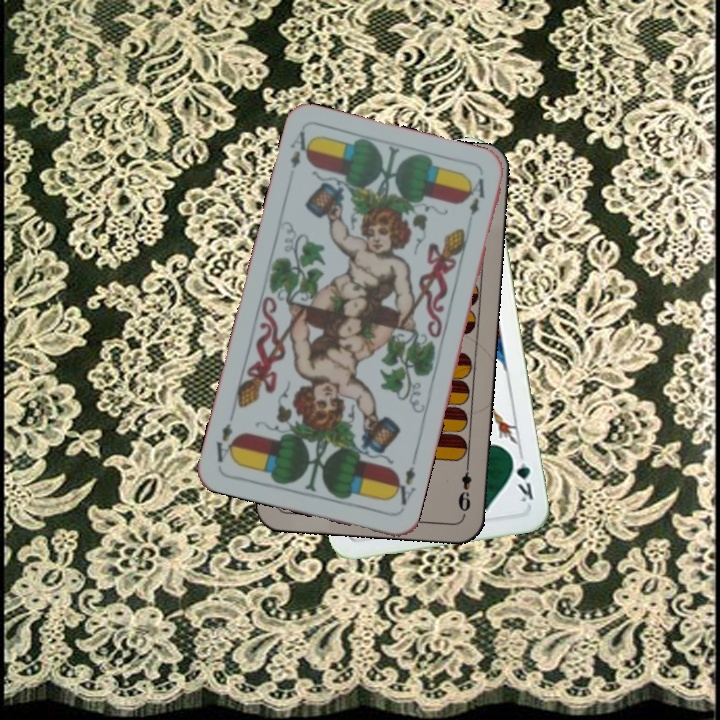E9: (454, 458, 474, 517)
EA: (388, 454, 419, 508), (286, 126, 316, 171)
GK: (507, 447, 536, 505)
